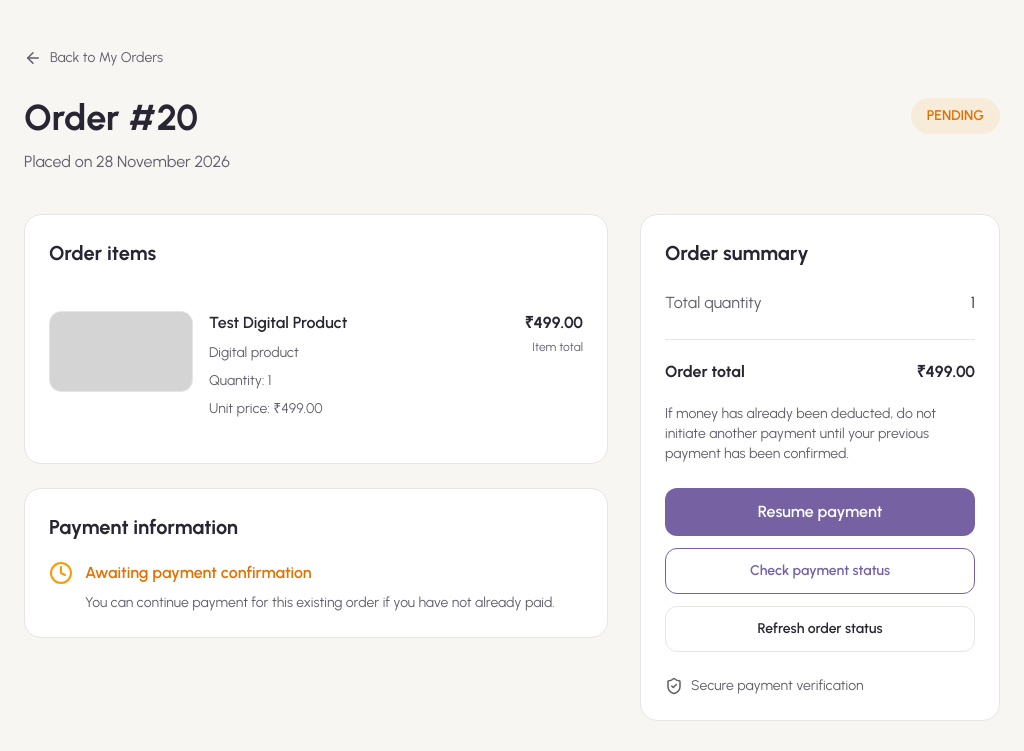
it: OrderDetailsPage payment workflow › prevents new checkout when a previous payment exists
The image size is (1024, 751).
Click the button "Resume payment": x=820, y=512 [665,488,975,536]
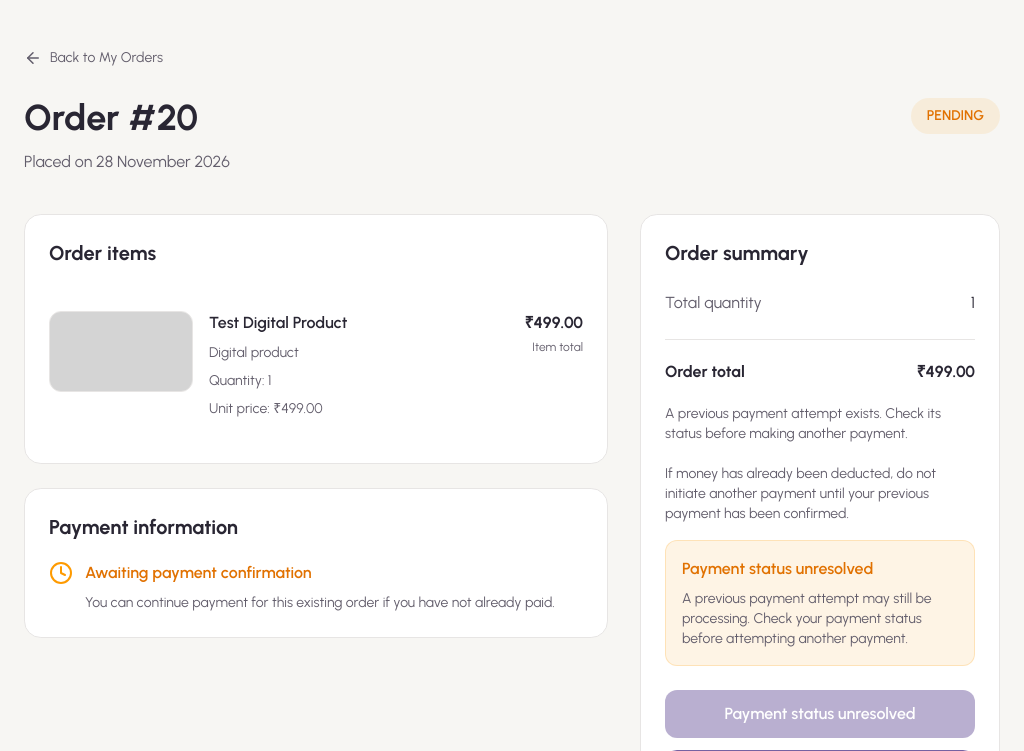
Result: the message that starts with "Payment status unresolved" is shown at [682,559,873,578]
Result: the button "Payment status unresolved" is disabled at [665,690,975,738]
